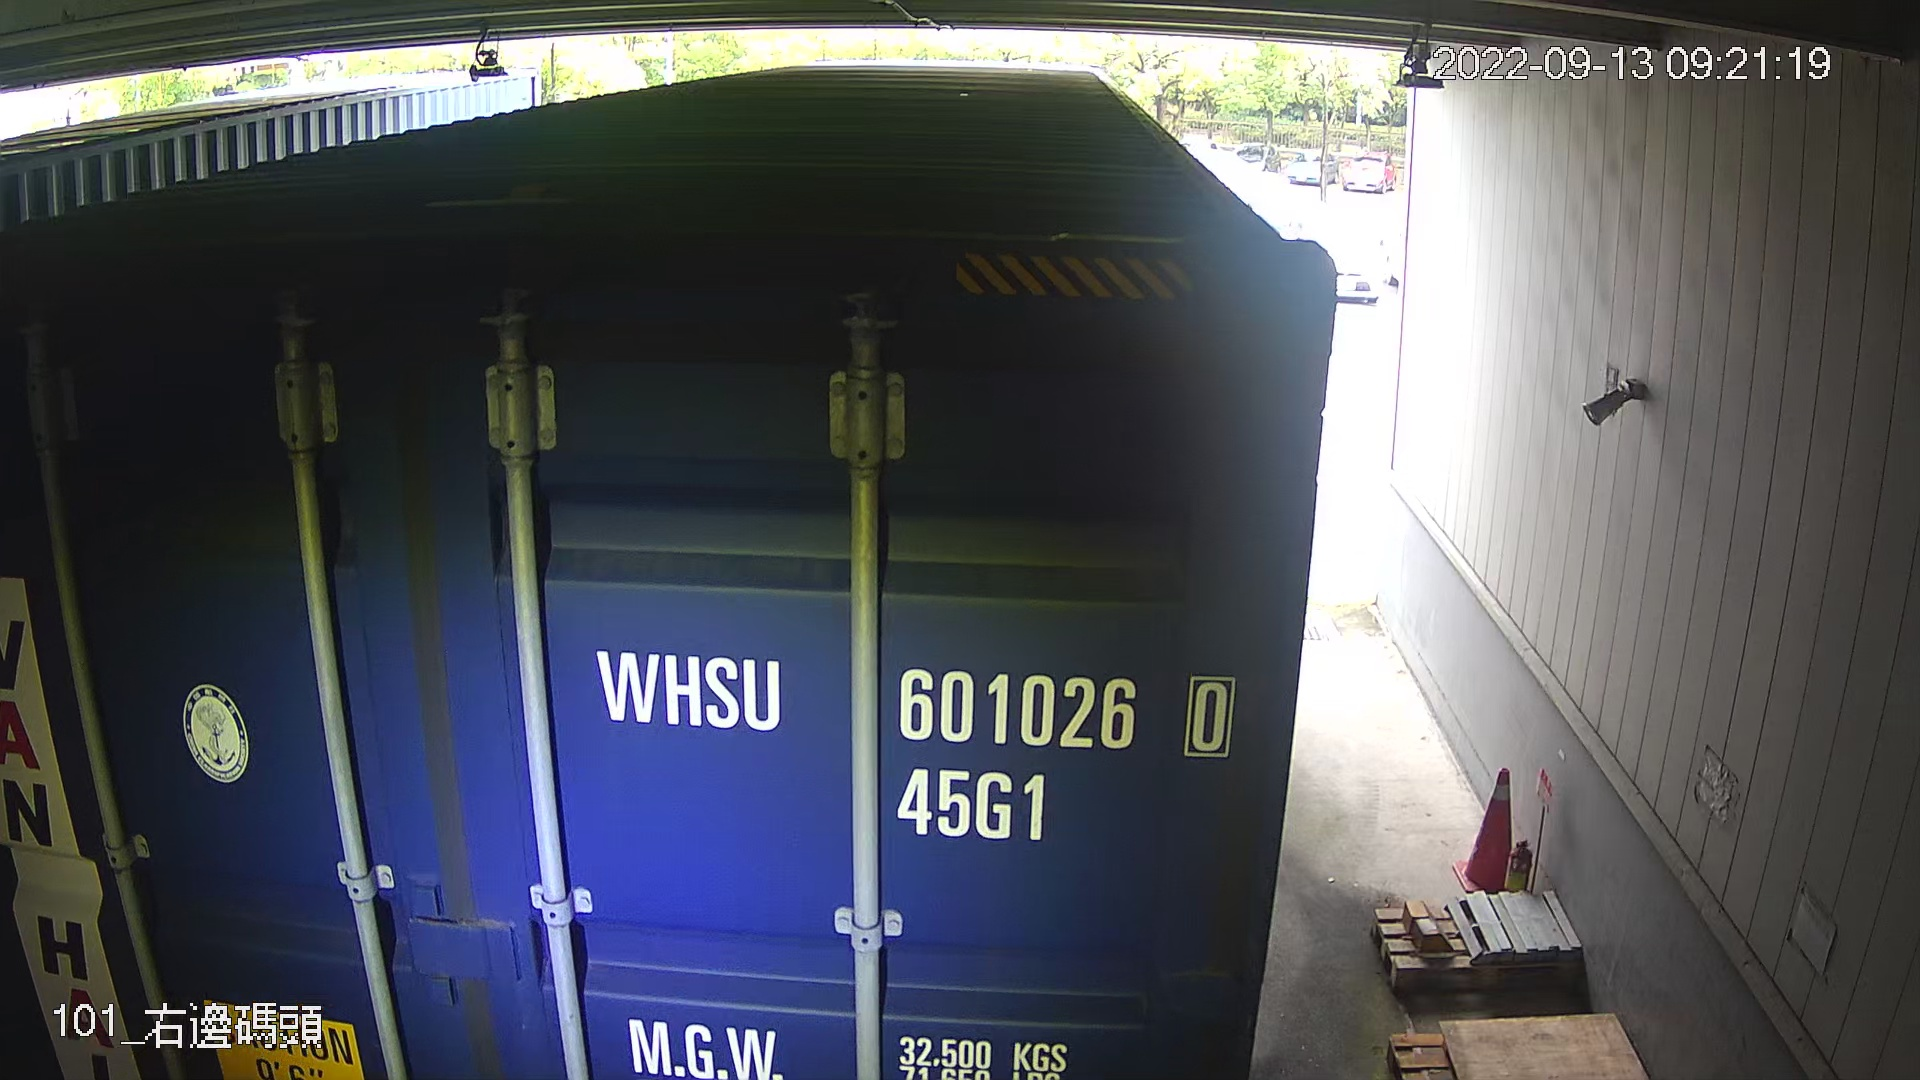container: (585, 624, 1247, 852)
